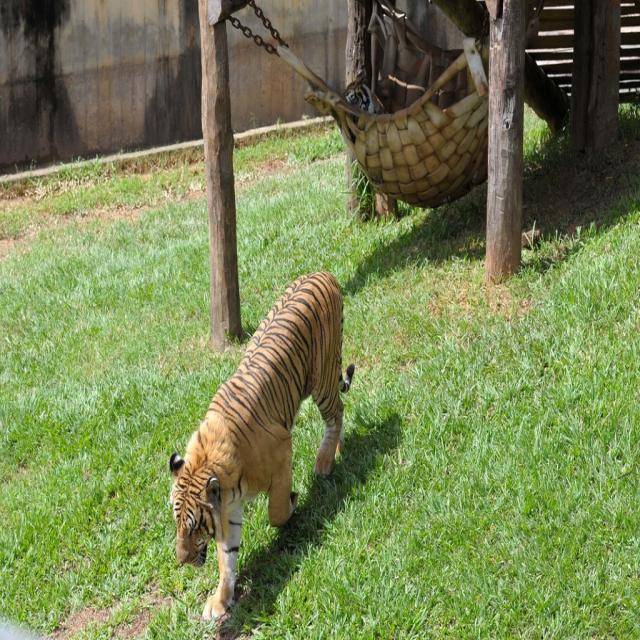Tiger: (166, 264, 355, 616)
